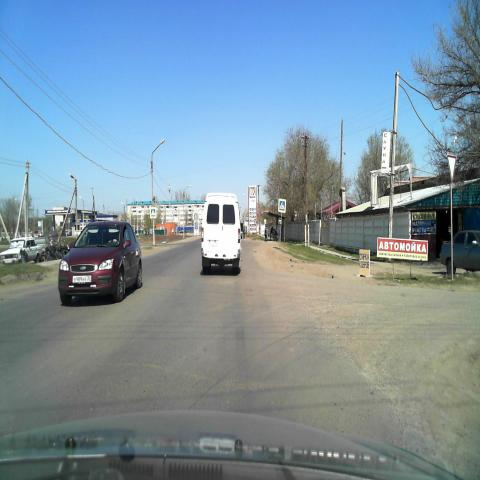2_4: (447, 154, 457, 180)
5_19_1: (278, 198, 286, 213), (151, 206, 158, 220)
